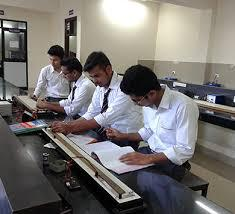Person: (122, 64, 199, 166), (82, 51, 122, 122), (44, 48, 63, 94)
